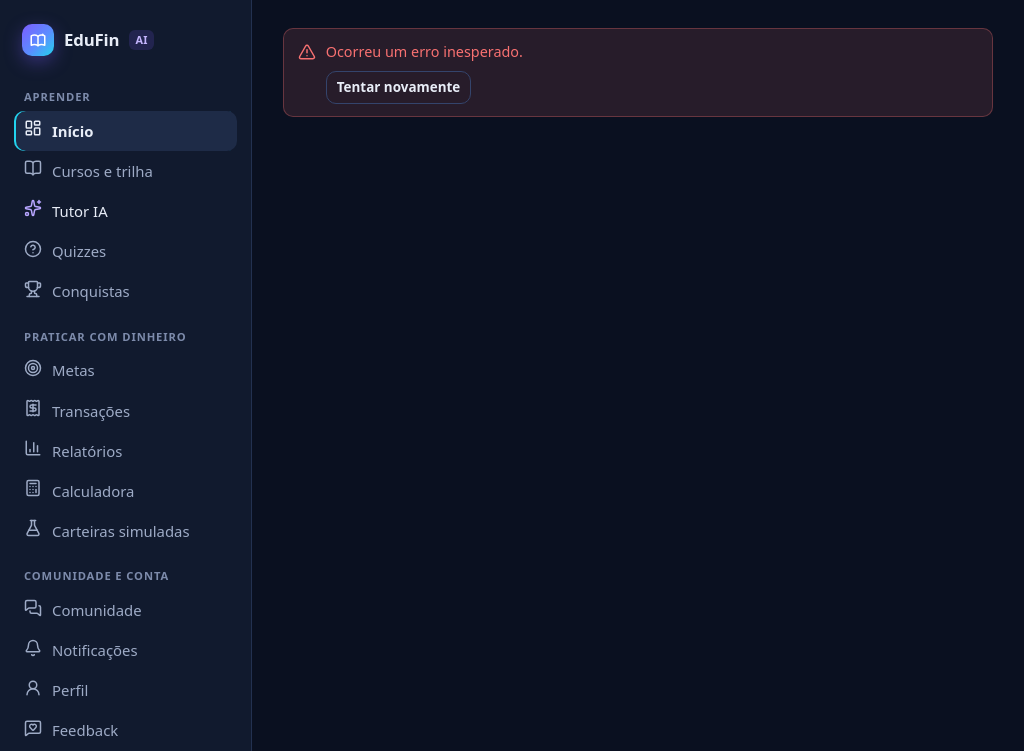
painel › exibe erro de comunicação com opção de tentar novamente
The image size is (1024, 751).
expect the message shows "Ocorreu um erro inesperado.": met, box [326,42,523,61]
Click the button "Tentar novamente" at {"x": 398, "y": 88}, box [326,71,471,104]
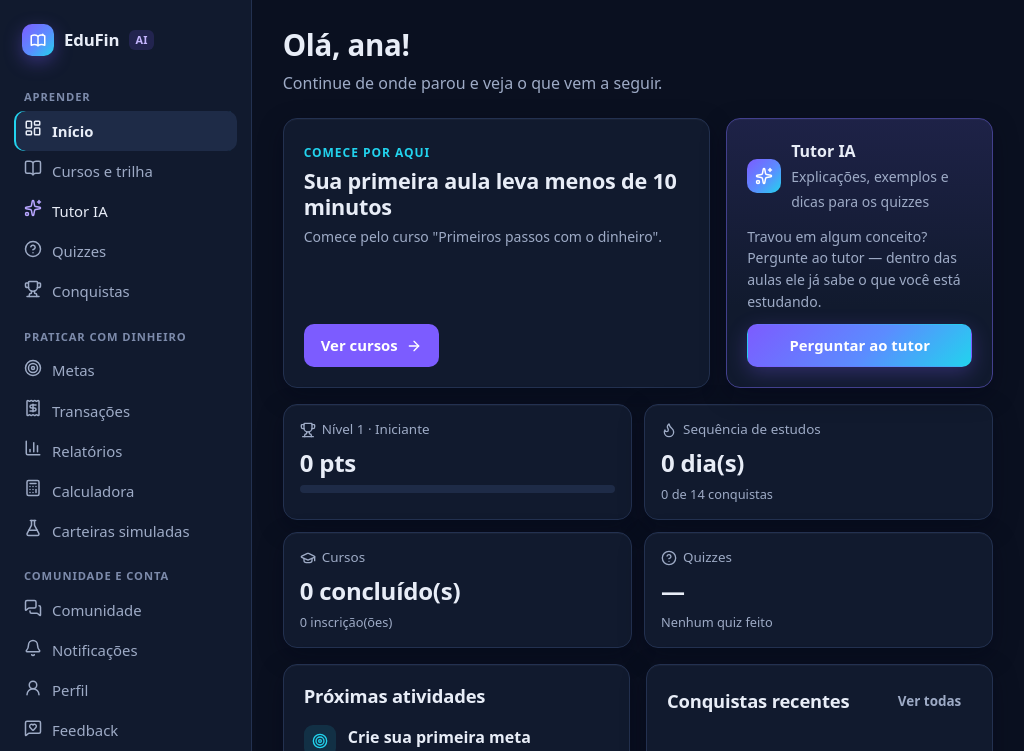
expect the heading "Sua primeira aula leva menos de 10 minutos" is shown: met, box [304,168,689,220]
